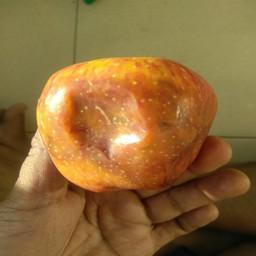Bad_apple: (42, 58, 214, 191)
